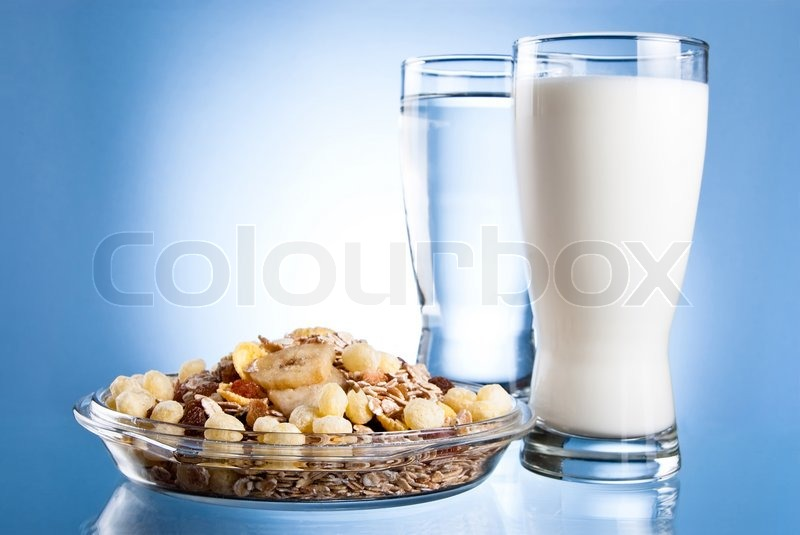glass of milk: (515, 35, 709, 474)
glass of water: (402, 54, 534, 384)
